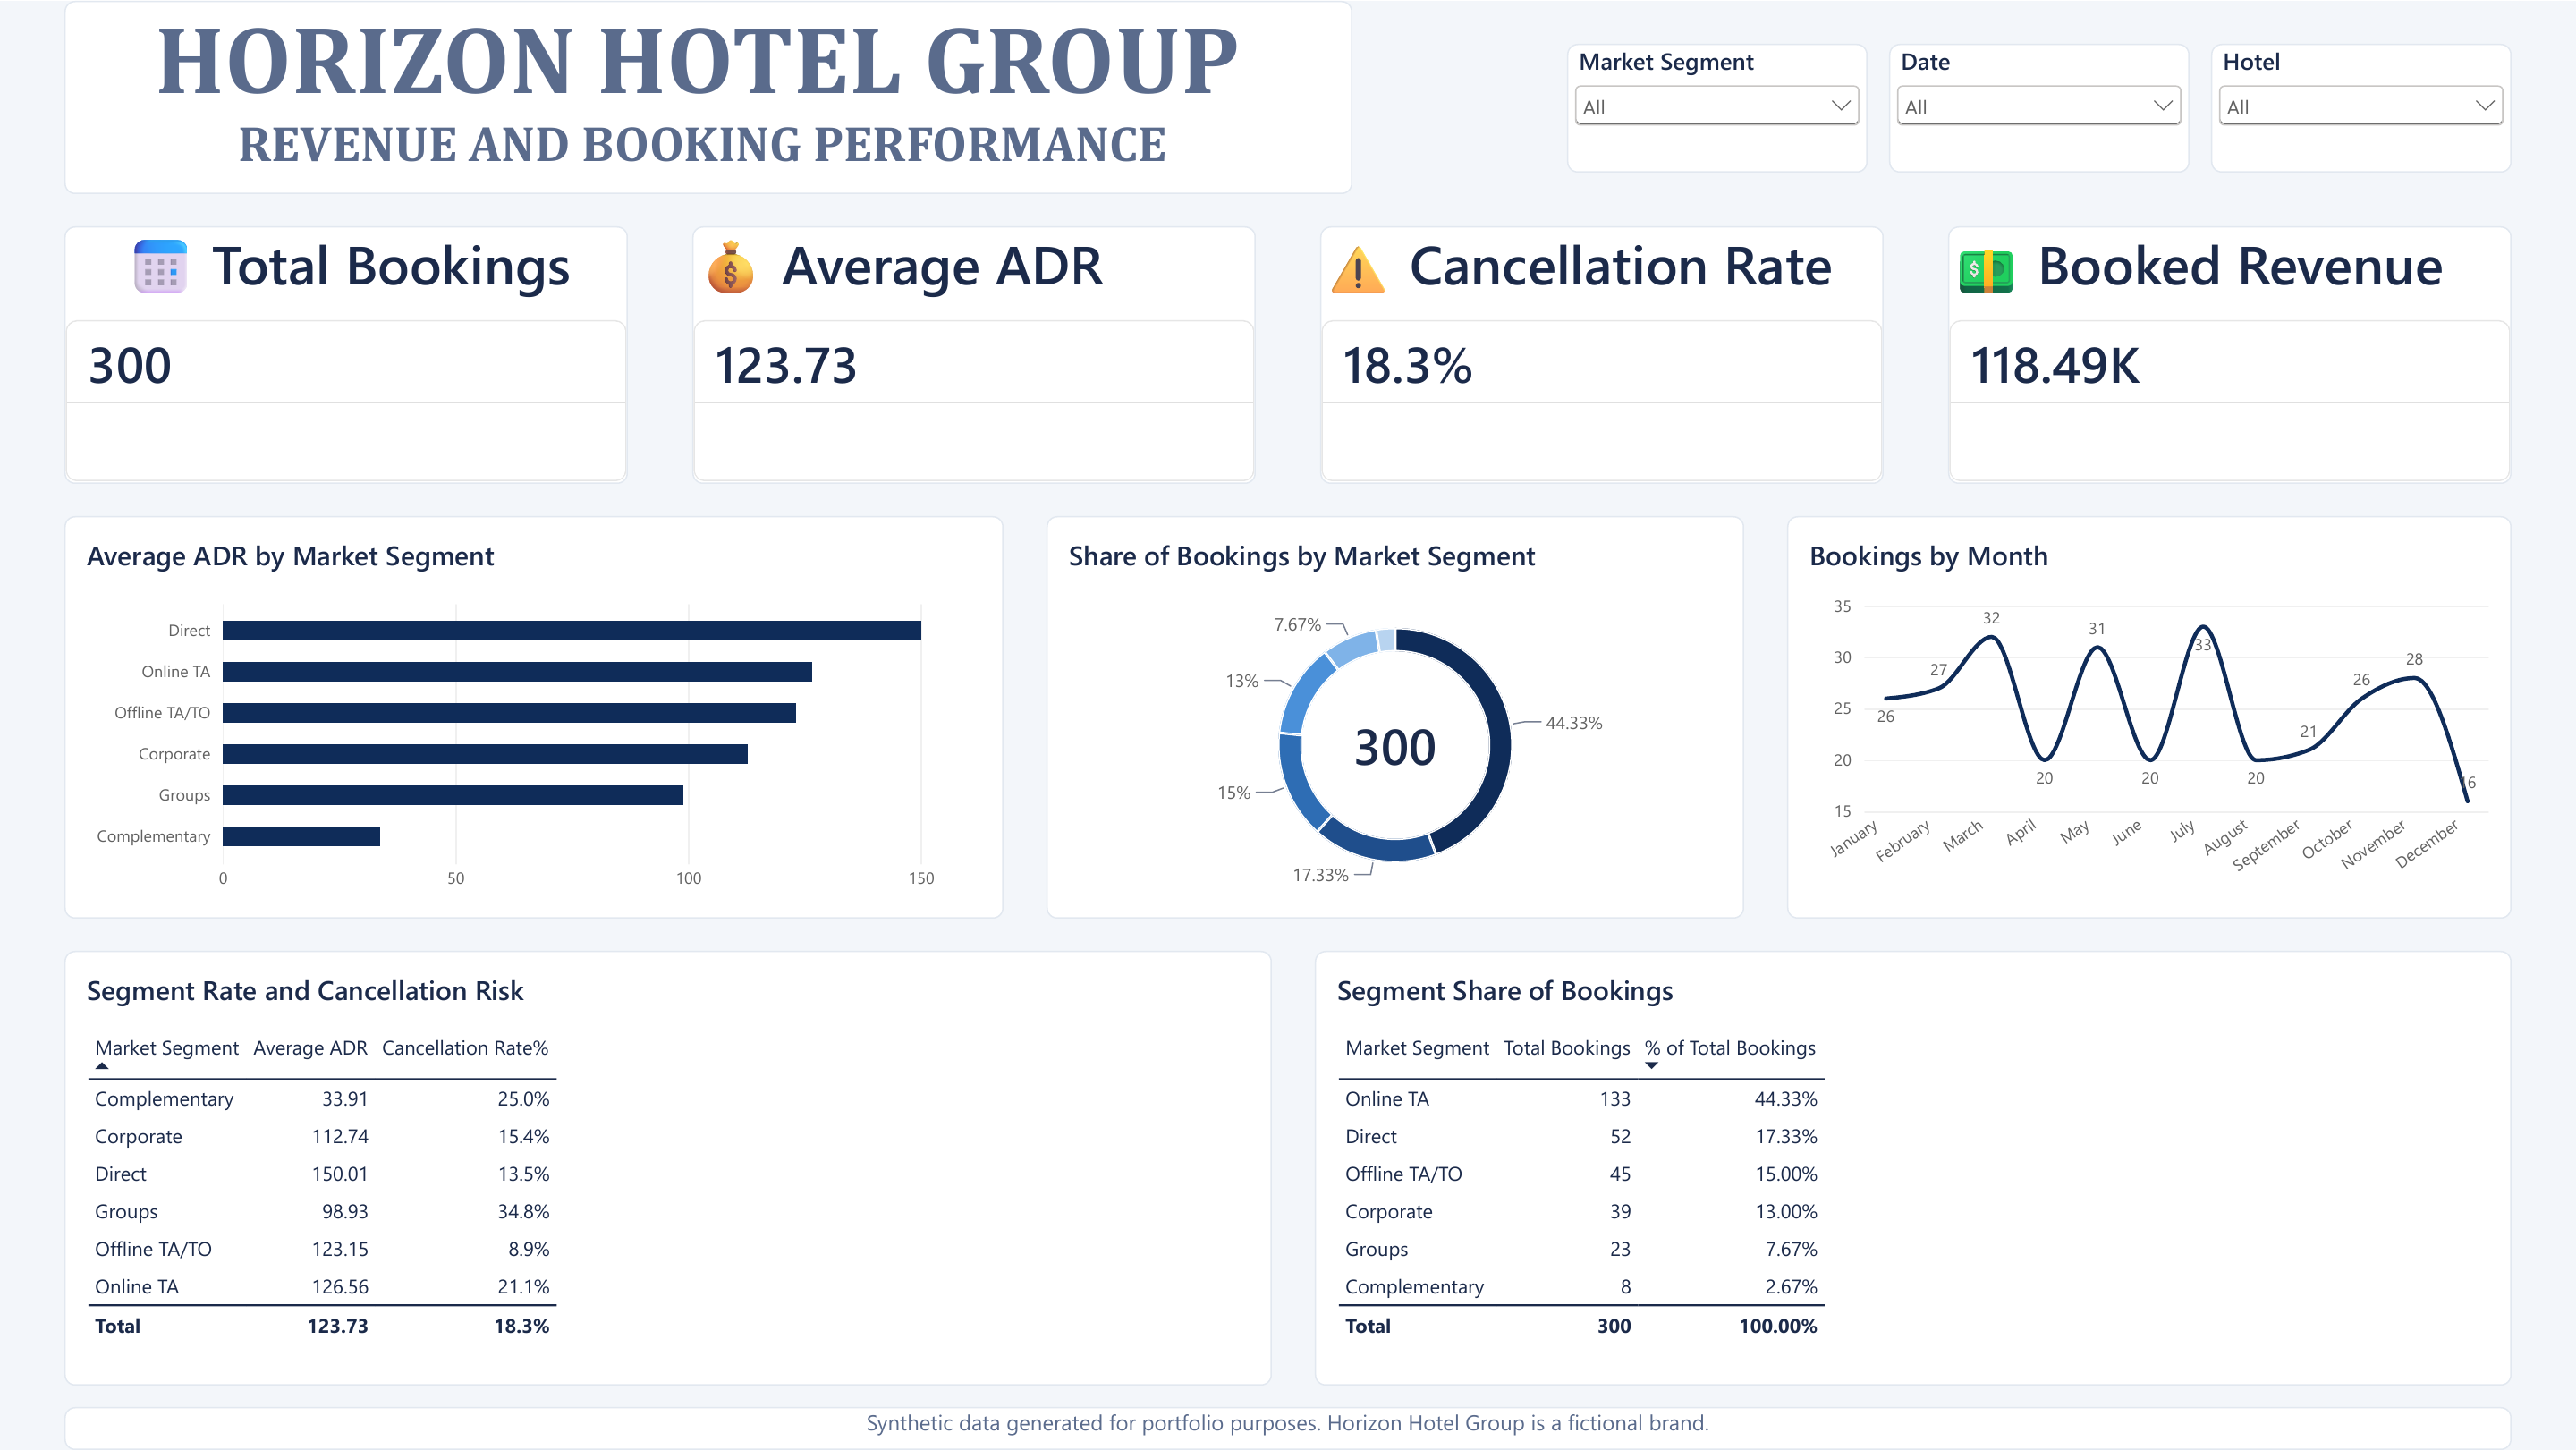

Layout of this report page (visuals, bound fields, positions):
{"tool":"powerbi","page":{"name":"Executive Overview","canvas":[1920,1080],"ordinal":0},"visuals":[{"type":"tableEx","title":"Segment Rate and Cancellation Risk","fields":{"Values":["hotel_bookings.market_segment","hotel_bookings.Average ADR","hotel_bookings.Cancellation Rate%"]},"box":[48,708,900,324],"z":0},{"type":"cardVisual","title":"📅 Total Bookings","fields":{"Data":["hotel_bookings.Total Bookings"]},"box":[48,168,420,192],"z":1000},{"type":"cardVisual","title":"💰 Average ADR","fields":{"Data":["hotel_bookings.Average ADR"]},"box":[516,168,420,192],"z":2000},{"type":"cardVisual","title":"⚠️ Cancellation Rate","fields":{"Data":["hotel_bookings.Cancellation Rate%"]},"box":[984,168,420,192],"z":3000},{"type":"clusteredBarChart","title":"Average ADR by Market Segment","fields":{"Category":["hotel_bookings.market_segment"],"Y":["hotel_bookings.Average ADR"]},"box":[48,384,700,300],"z":4000},{"type":"cardVisual","title":"💵 Booked Revenue","fields":{"Data":["hotel_bookings.Total Revenue"]},"box":[1452,168,420,192],"z":5000},{"type":"donutChart","title":"Share of Bookings by Market Segment","fields":{"Category":["hotel_bookings.market_segment"],"Y":["hotel_bookings.Total Bookings"]},"box":[780,384,520,300],"z":6000},{"type":"tableEx","title":"Segment Share of Bookings","fields":{"Values":["hotel_bookings.market_segment","hotel_bookings.Total Bookings","hotel_bookings.% of Total Bookings"]},"box":[980,708,892,324],"z":7000},{"type":"lineChart","title":"Bookings by Month","fields":{"Category":["hotel_bookings.arrival_date.Variation.Date Hierarchy.Month"],"Y":["hotel_bookings.Total Bookings"]},"box":[1332,384,540,300],"z":8000},{"type":"textbox","box":[48,0,960,144],"z":9000},{"type":"slicer","fields":{"Values":["hotel_bookings.market_segment"]},"box":[1168,32,224,96],"z":11000},{"type":"slicer","fields":{"Values":["hotel_bookings.arrival_date"]},"box":[1408,32,224,96],"z":11001},{"type":"slicer","fields":{"Values":["hotel_bookings.hotel"]},"box":[1648,32,224,96],"z":11002},{"type":"textbox","box":[48,1048,1824,32],"z":12000}]}

Visuals, with their boxes in screenshot pixels (x1, y1, x2, y2), scaled from the page's 1920x1080 canvas onto the 2576x1450 screenshot:
"Segment Rate and Cancellation Risk" tableEx: region(64, 951, 1272, 1386)
"📅 Total Bookings" cardVisual: region(64, 225, 628, 483)
"💰 Average ADR" cardVisual: region(692, 225, 1256, 483)
"⚠️ Cancellation Rate" cardVisual: region(1320, 225, 1884, 483)
"Average ADR by Market Segment" clusteredBarChart: region(64, 515, 1004, 919)
"💵 Booked Revenue" cardVisual: region(1948, 225, 2512, 483)
"Share of Bookings by Market Segment" donutChart: region(1046, 515, 1744, 919)
"Segment Share of Bookings" tableEx: region(1315, 951, 2512, 1386)
"Bookings by Month" lineChart: region(1787, 515, 2512, 919)
textbox: region(64, 0, 1352, 193)
slicer - hotel_bookings.market_segment: region(1567, 43, 1868, 172)
slicer - hotel_bookings.arrival_date: region(1889, 43, 2190, 172)
slicer - hotel_bookings.hotel: region(2211, 43, 2512, 172)
textbox: region(64, 1407, 2512, 1449)
